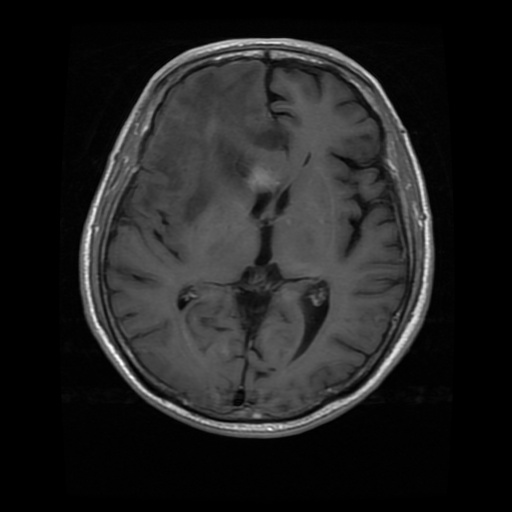glioma: (141, 63, 293, 242)
